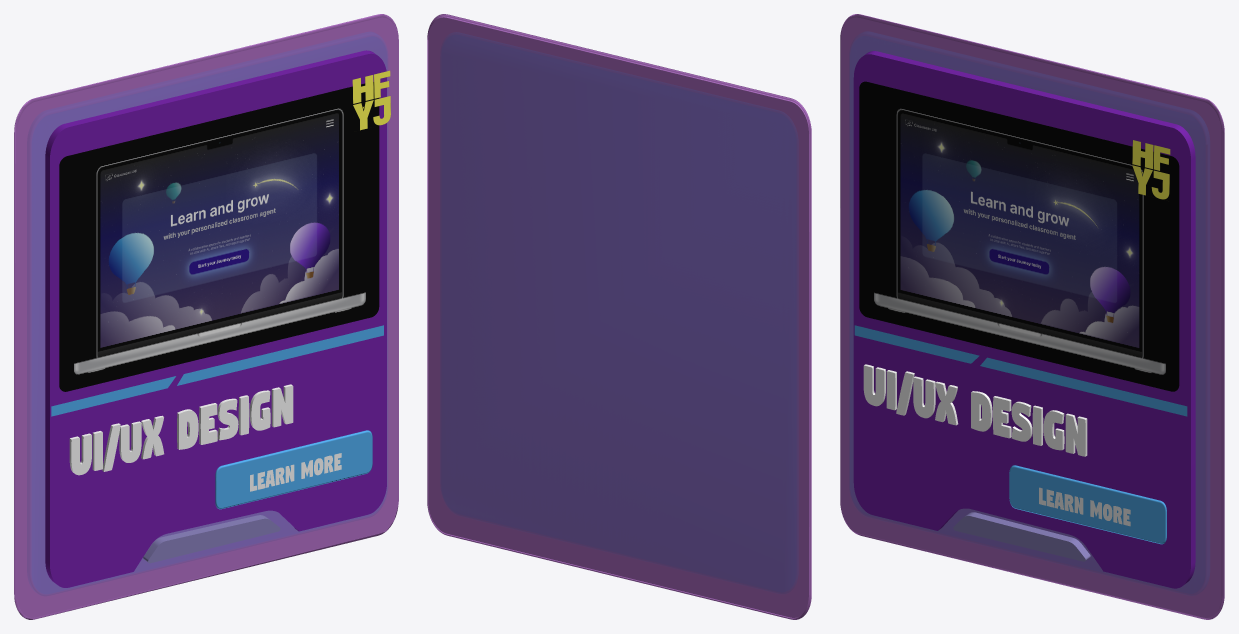
Rendered from uiux.glb.
3 views of the same model, side by side, from view 1: azimuth 30°, elevation 25°; view 2: azimuth 150°, elevation 25°; view 3: azimuth 330°, elevation 25° (orthographic).
Visible parts, largest first — view 1: ra sm.jpg, Boolean, Rectangle 6, Rectangle, Text, Rectangle 8, Shape, Rectangle 7, Logo V1.png, Rectangle 9, Text 3; view 2: Rectangle 6, Rectangle; view 3: ra sm.jpg, Boolean, Rectangle 6, Rectangle, Text, Rectangle 8, Shape, Rectangle 7, Logo V1.png, Rectangle 9, Text 3.
Part boxes in pixels (x1,y1,x2,y2): ra sm.jpg: (59, 82, 379, 391); Boolean: (45, 50, 386, 587); Rectangle 6: (14, 14, 398, 619); Rectangle: (31, 36, 387, 594); Text: (69, 384, 293, 475); Rectangle 8: (215, 430, 372, 509); Shape: (143, 515, 280, 563); Rectangle 7: (177, 325, 383, 385); Logo V1.png: (352, 70, 390, 130); Rectangle 9: (51, 376, 175, 416); Text 3: (250, 453, 341, 491); Rectangle 6: (427, 14, 811, 619); Rectangle: (441, 34, 796, 592); ra sm.jpg: (859, 81, 1179, 391); Boolean: (853, 51, 1195, 588); Rectangle 6: (840, 14, 1224, 619); Rectangle: (850, 36, 1205, 593); Text: (863, 364, 1087, 456); Rectangle 8: (1009, 465, 1166, 544); Shape: (953, 512, 1090, 561); Rectangle 7: (980, 357, 1187, 416); Logo V1.png: (1132, 140, 1170, 199); Rectangle 9: (854, 325, 979, 363); Text 3: (1039, 487, 1130, 526).
Size of the model in its own units: 4.25 by 5.51 by 0.4834.
Materials: 9 (2 with a texture image).
